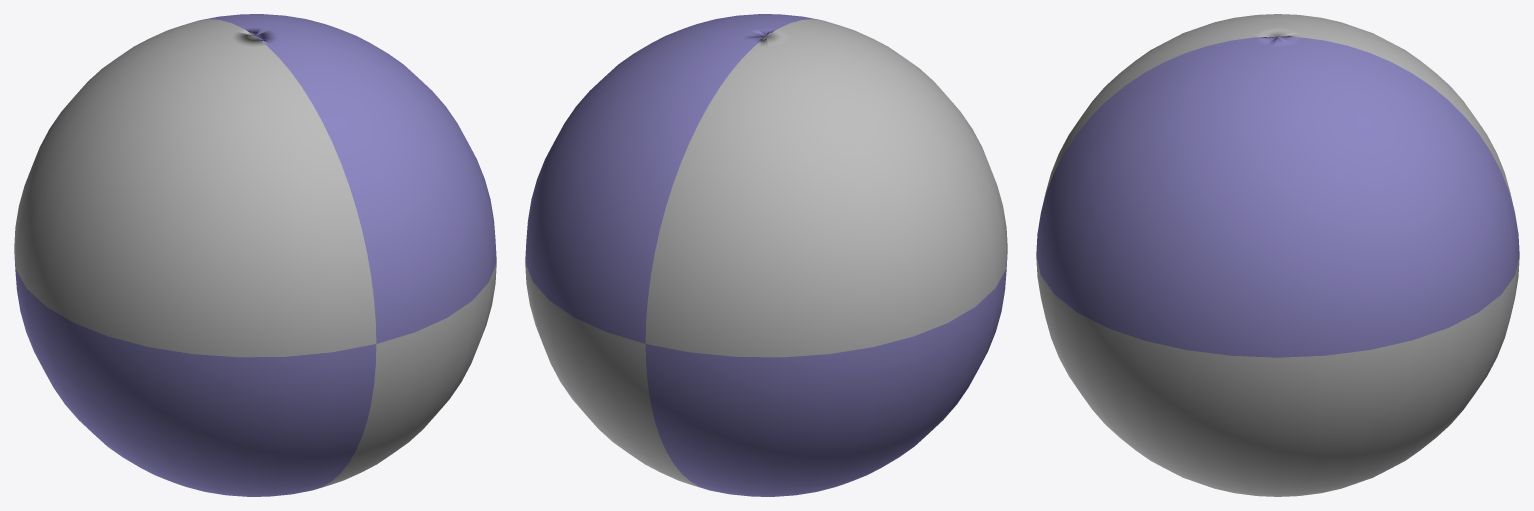
The model's file is UVMappedUnitSphere.obj.
The picture shows the model from 3 angles, left to right: view 1: azimuth 30°, elevation 25°; view 2: azimuth 150°, elevation 25°; view 3: azimuth 270°, elevation 25°; orthographic projection.
Parts seen in each view (by area): view 1: Plane; view 2: Plane; view 3: Plane.
Part boxes in pixels (<box>): Plane: <box>14,14,496,496</box>; Plane: <box>525,14,1007,496</box>; Plane: <box>1036,14,1519,496</box>.
Size of the model in its own units: 1.8 by 1.8 by 1.8.
